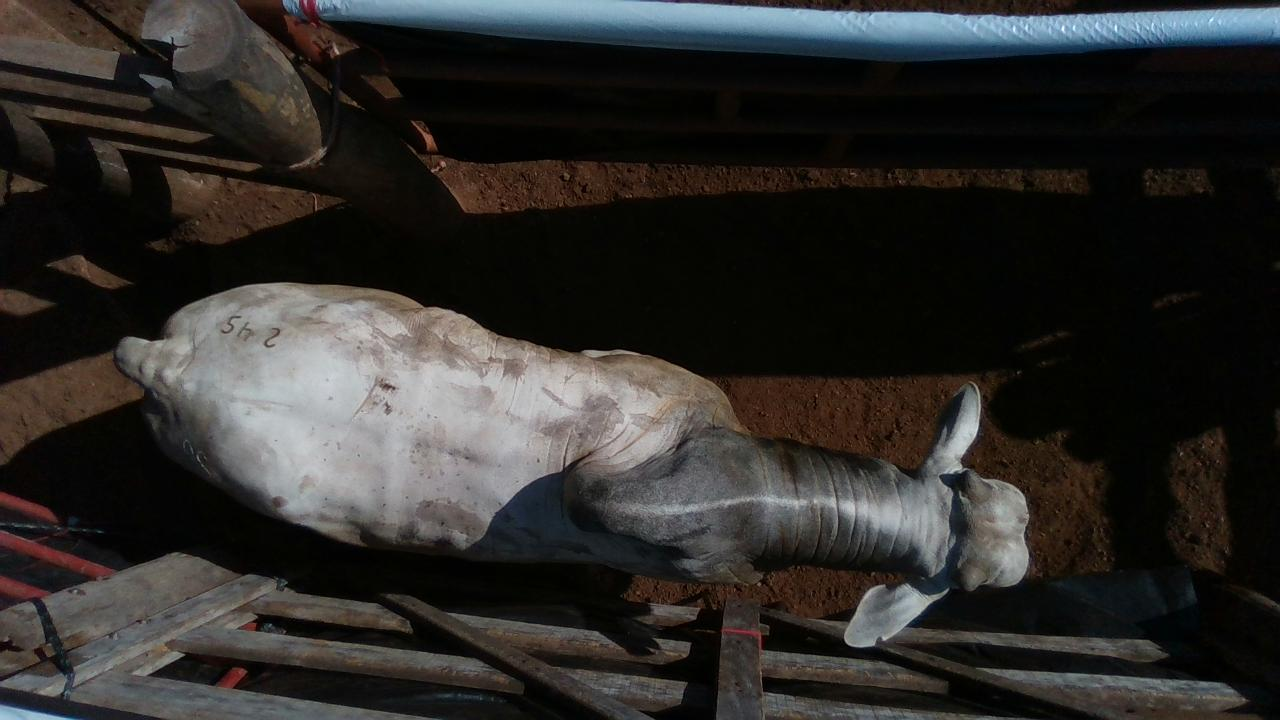cattle: (112, 278, 1032, 649)
